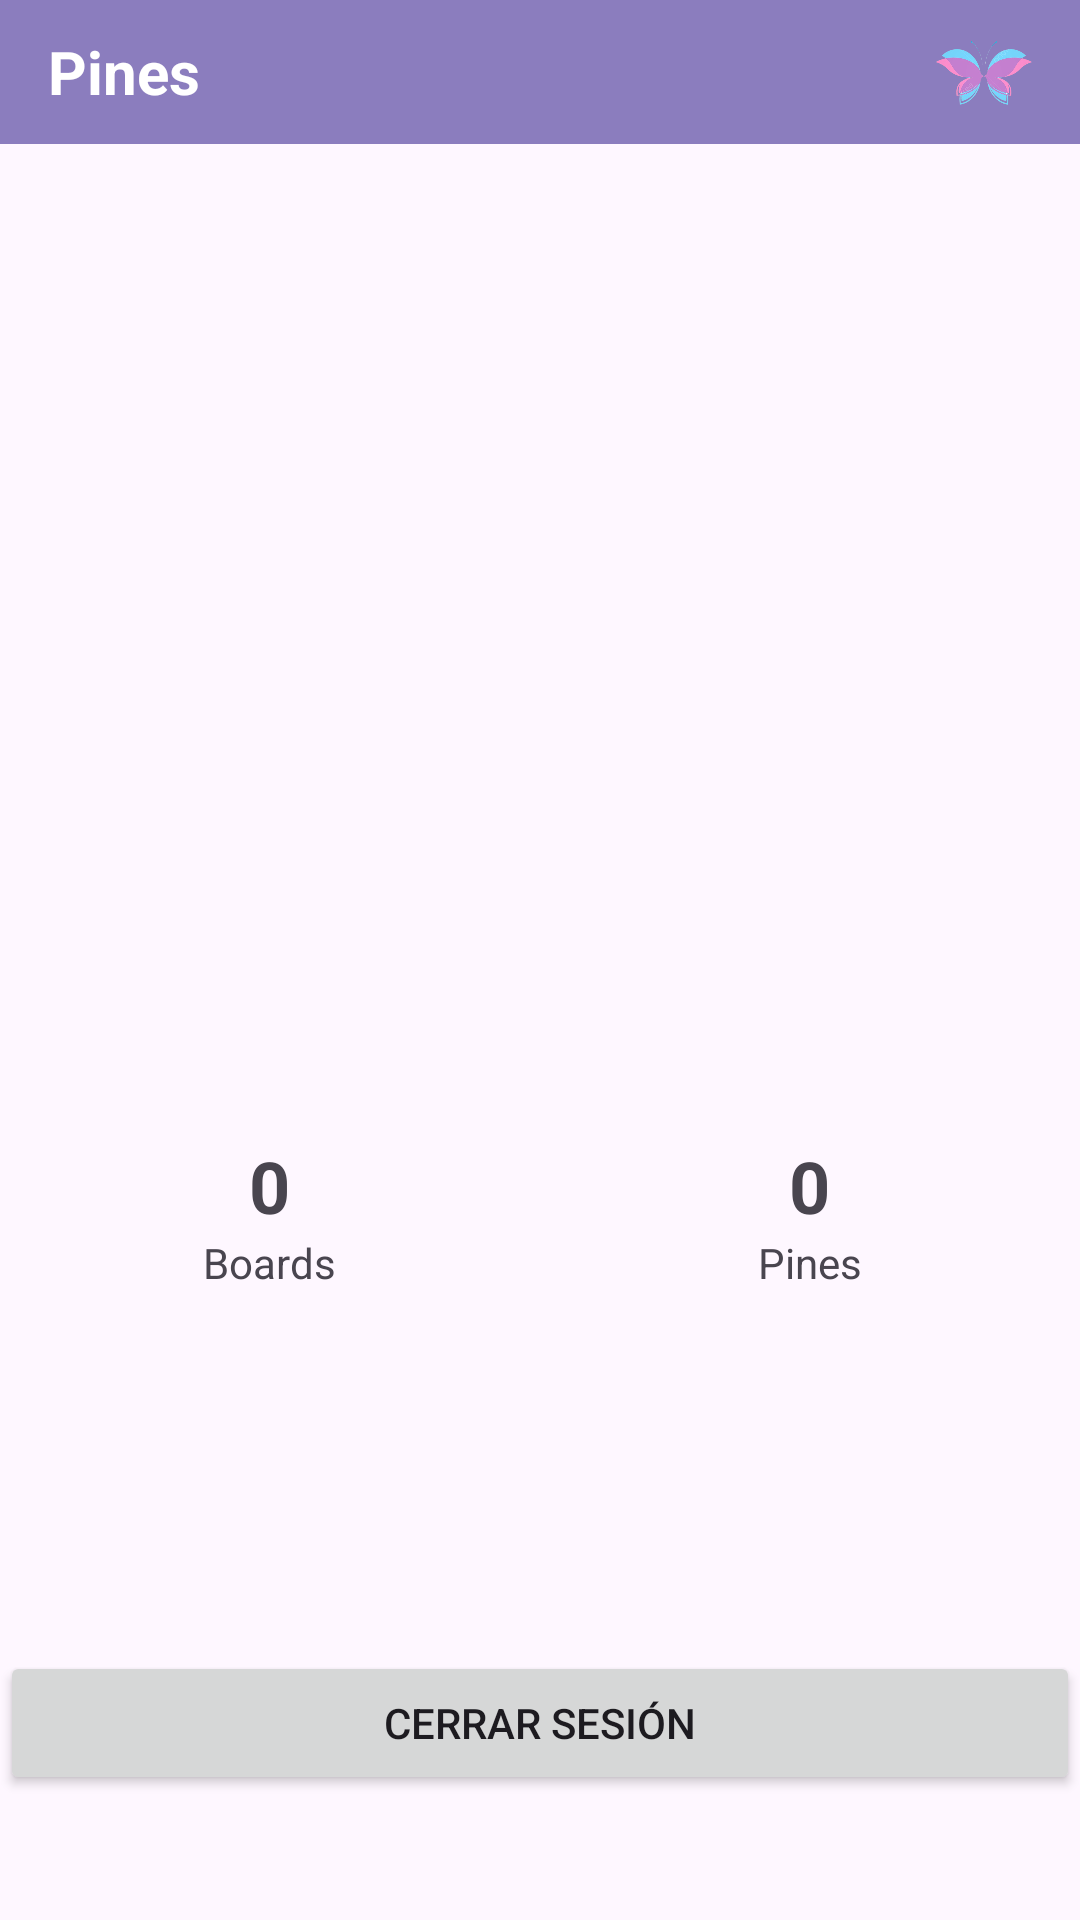

Icon bounding boxes for this 1080 x 1920 phone screenshot, format (x1, y1, x2, y2):
butterfly: (936, 41, 1031, 105)
